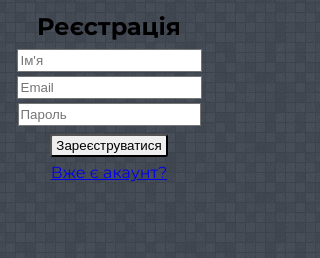
Test: RegisterForm › виводить повідомлення про помилку при невалідній відповіді
Type "Іван" into the field with placeholder "Ім'я" at (109, 60), box [16,49,202,72]
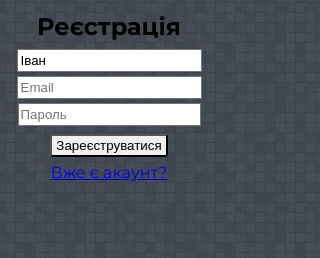
Type "used@email.com" into the field with placeholder "Email" at (109, 87), box [16,76,202,99]
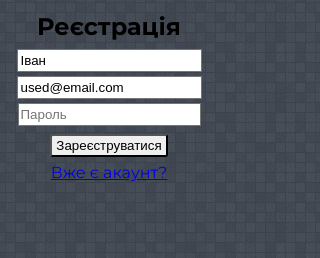
Type "secret123" into the password field with placeholder "Пароль" at (109, 114), box [18,103,200,126]
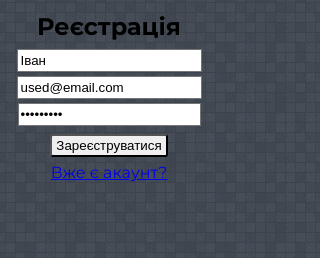
Click the button "Зареєструватися" at (109, 145), box [50,134,168,157]
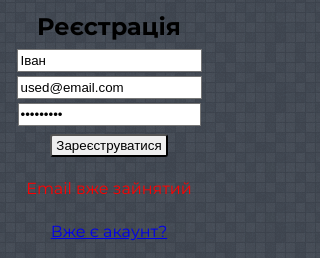
Check: the text "Email вже зайнятий" is shown, box [24,177,194,200]
